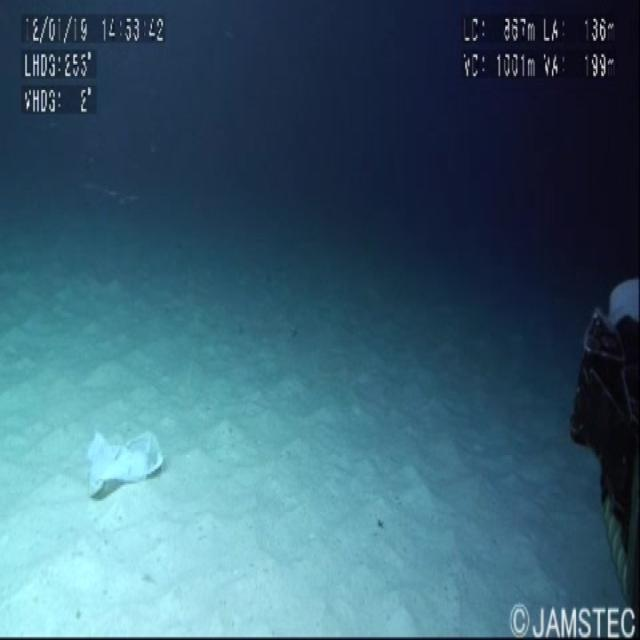Plastic: (76, 395, 175, 508)
